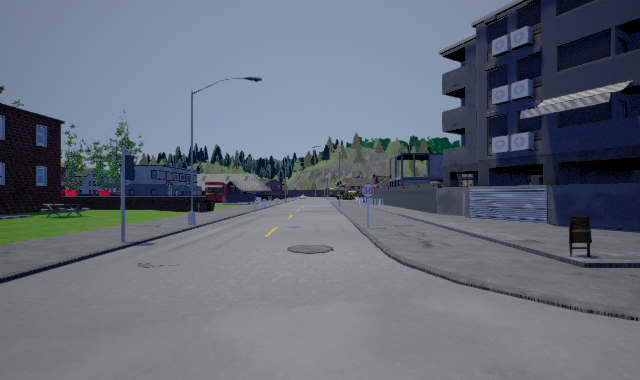traffic_sign: (360, 183, 375, 198)
